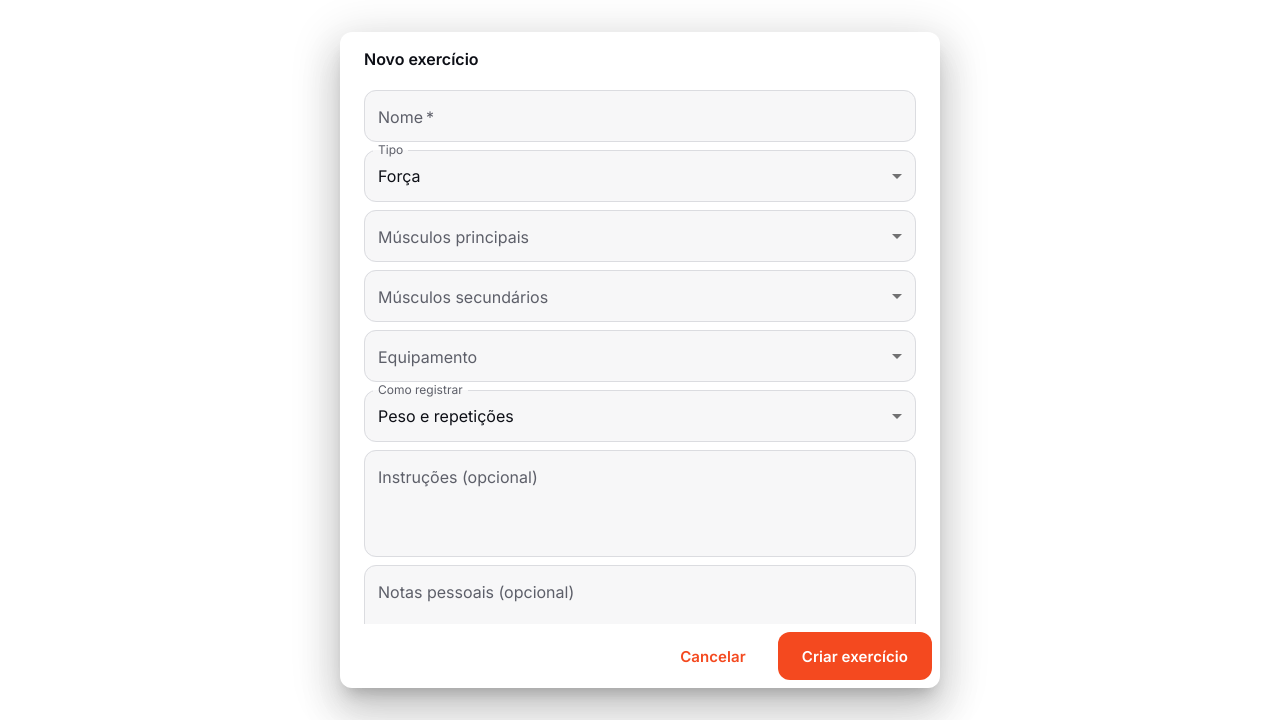
Test: ExerciseFormDialog › shows a validation error and does not submit when no primary muscle is selected
Type "Exercício sem músculo" into the field labelled "Nome *".
click(640, 116); type("Exercício sem músculo")  # box [364,91,916,142]
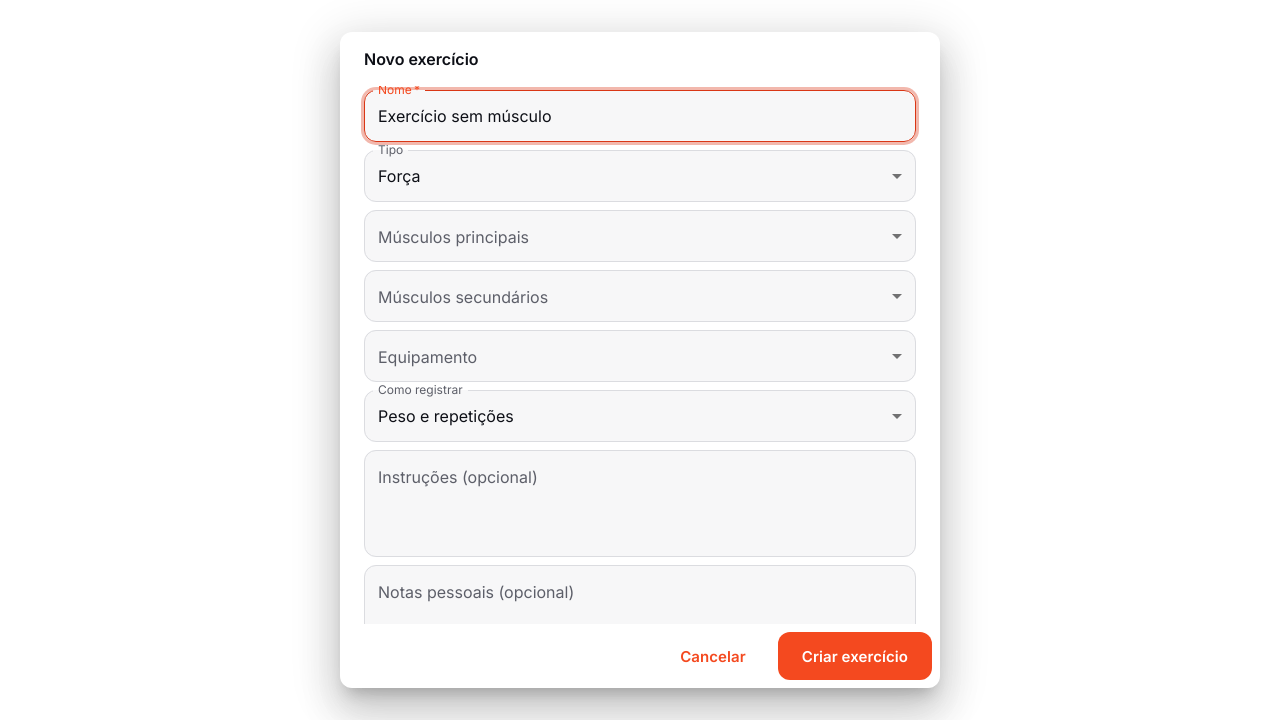
Click the button "Criar exercício".
click(855, 656)  # box [778,632,932,680]
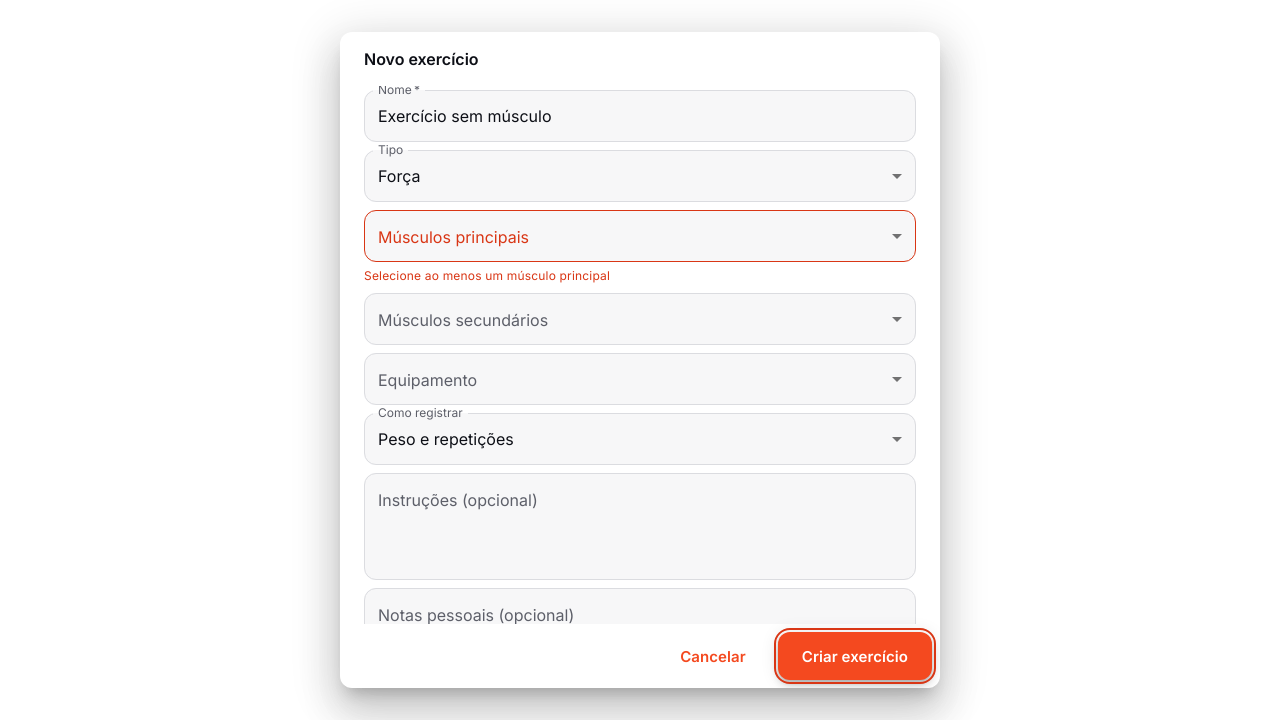
Expected: the text "Selecione ao menos um músculo principal" is shown, [364,268,610,283]
